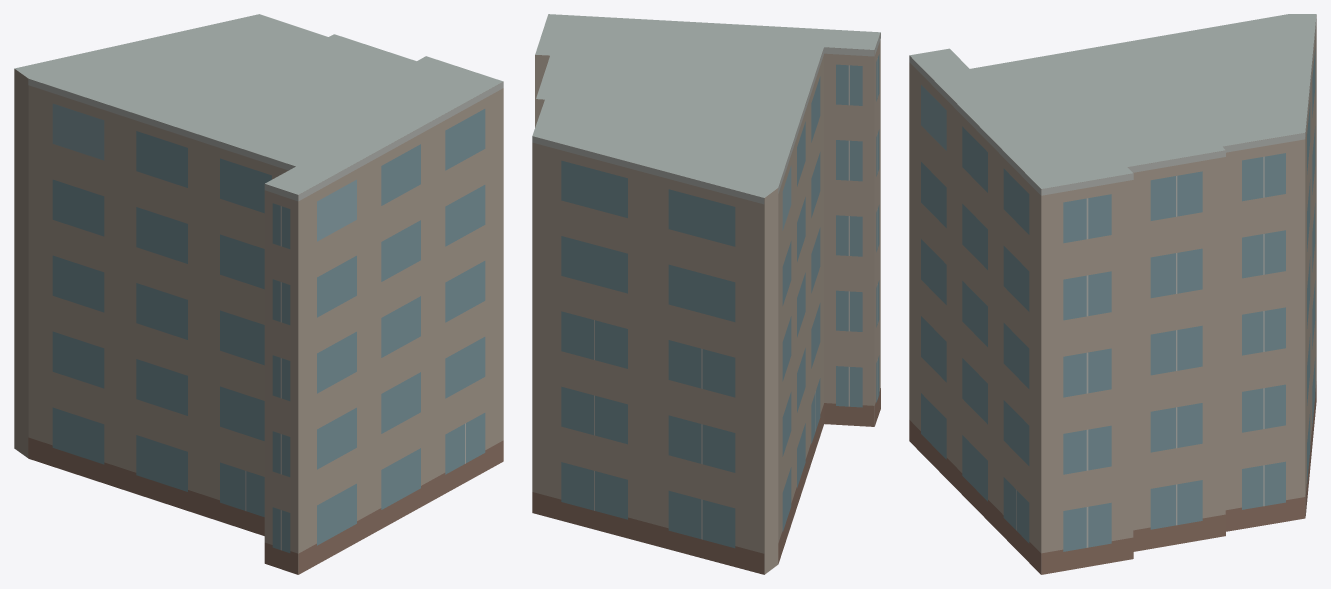
File: survey-upis-33005604.glb
3 renders of one model, left to right at view 1: azimuth 30°, elevation 25°; view 2: azimuth 150°, elevation 25°; view 3: azimuth 270°, elevation 25°, orthographic. The views are drawn at different scales.
Parts seen in each view (by area): view 1: survey-upis-33005604.tmp; view 2: survey-upis-33005604.tmp; view 3: survey-upis-33005604.tmp.
Boxes of the visible parts, bbox=[...] form: survey-upis-33005604.tmp: bbox=[14, 14, 503, 574]; survey-upis-33005604.tmp: bbox=[532, 14, 880, 574]; survey-upis-33005604.tmp: bbox=[909, 14, 1316, 574].
Bounding box in the file's own units: 13.84 × 14.2 × 13.6.
